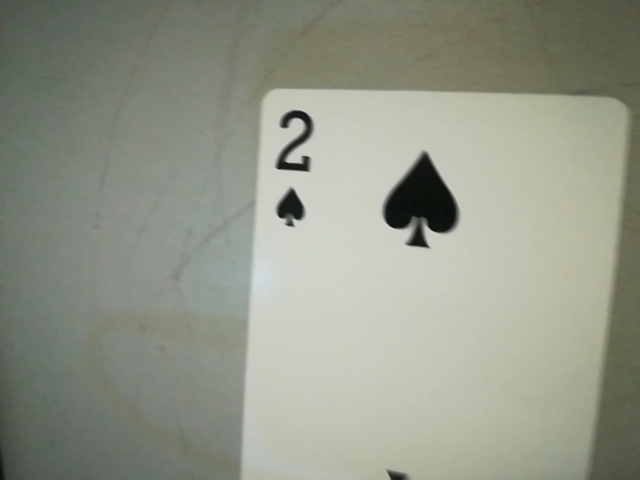ht 2: (258, 99, 328, 234)
